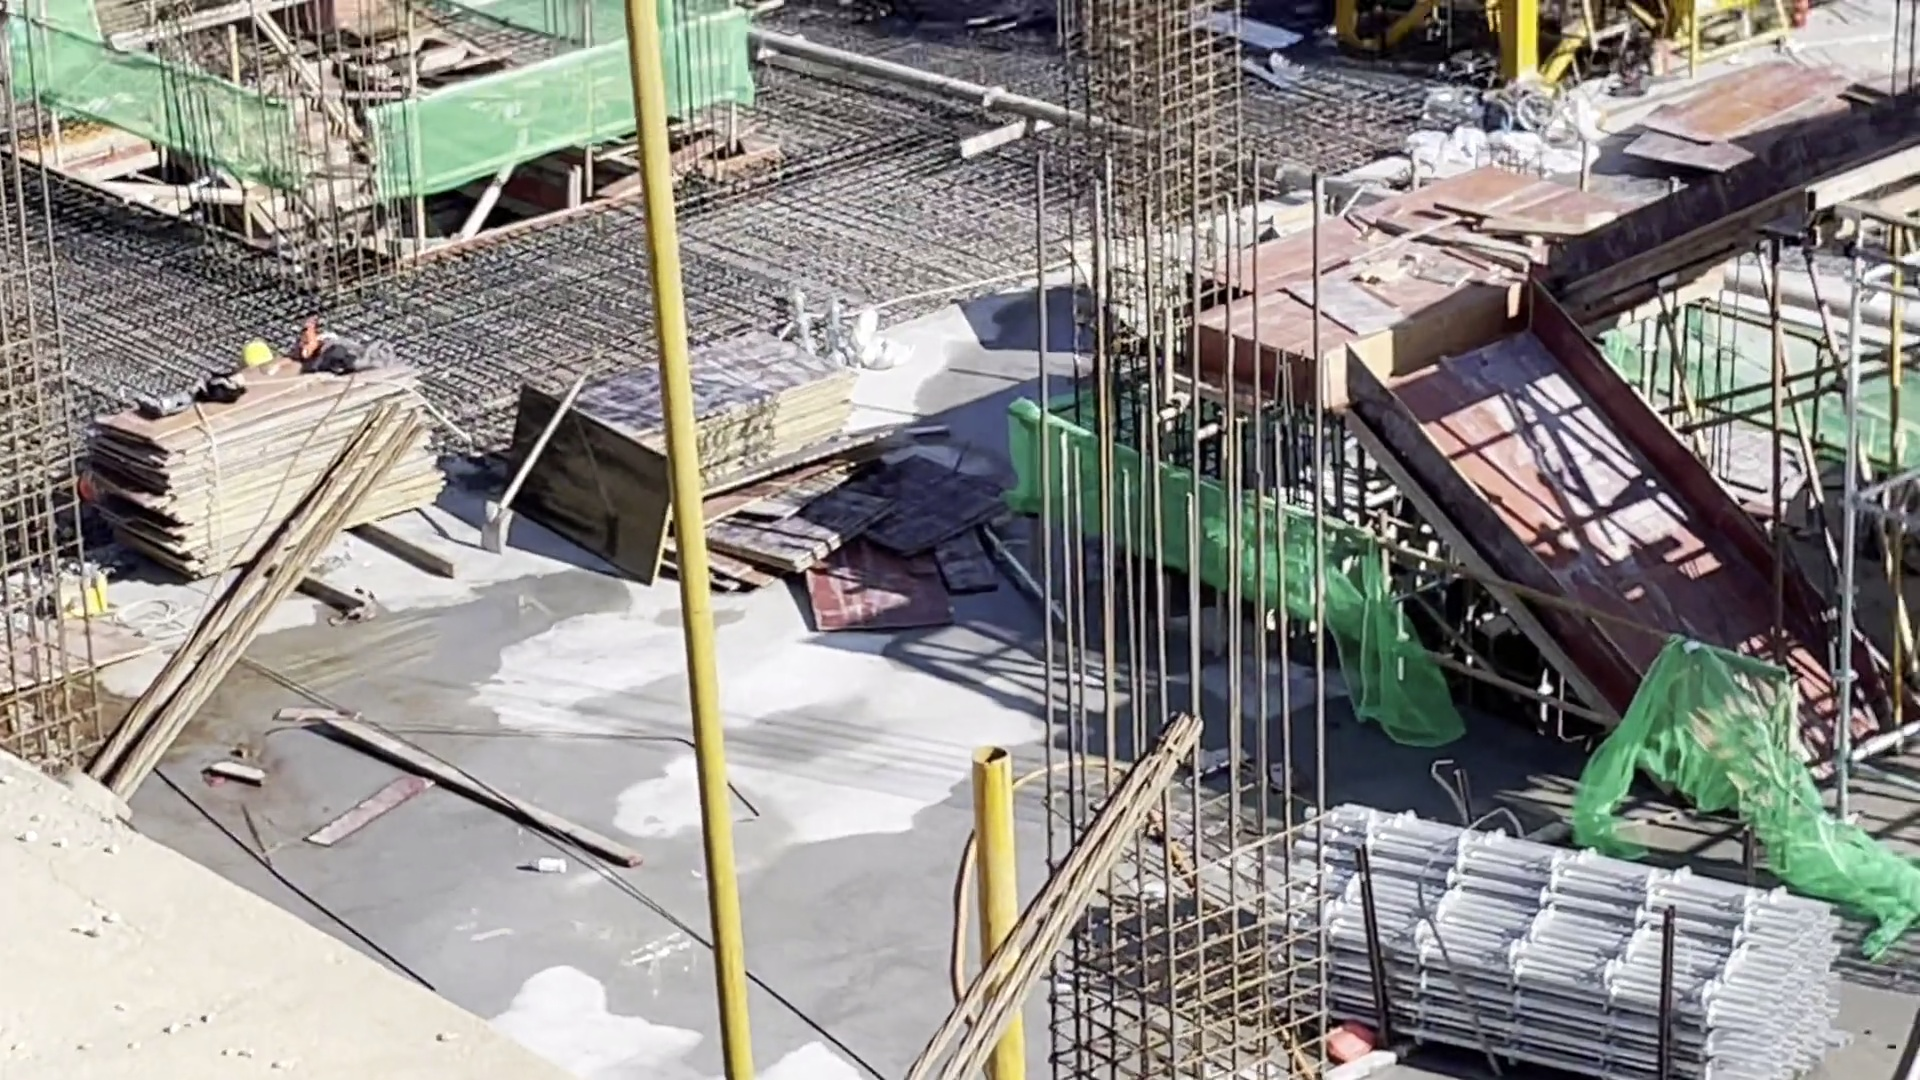board: (96, 336, 448, 589), (553, 320, 858, 538)
helmet: (239, 336, 269, 368)
scaffold: (1269, 798, 1846, 1080)
